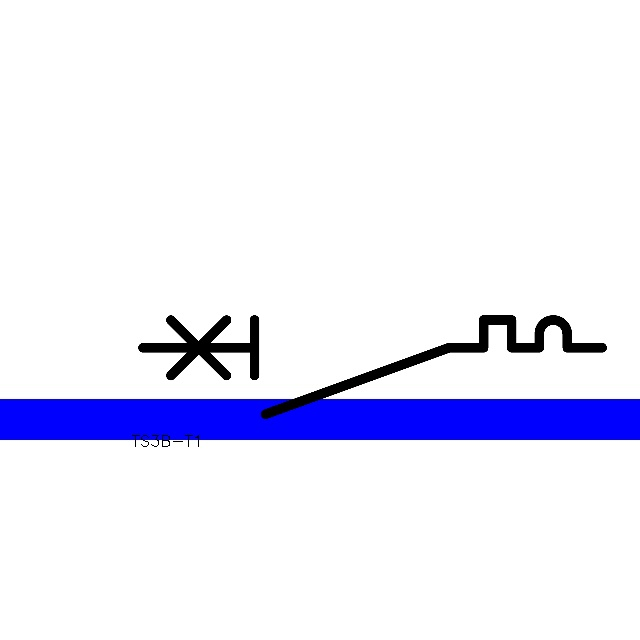interruptor_termomagnetico: (131, 308, 614, 426)
